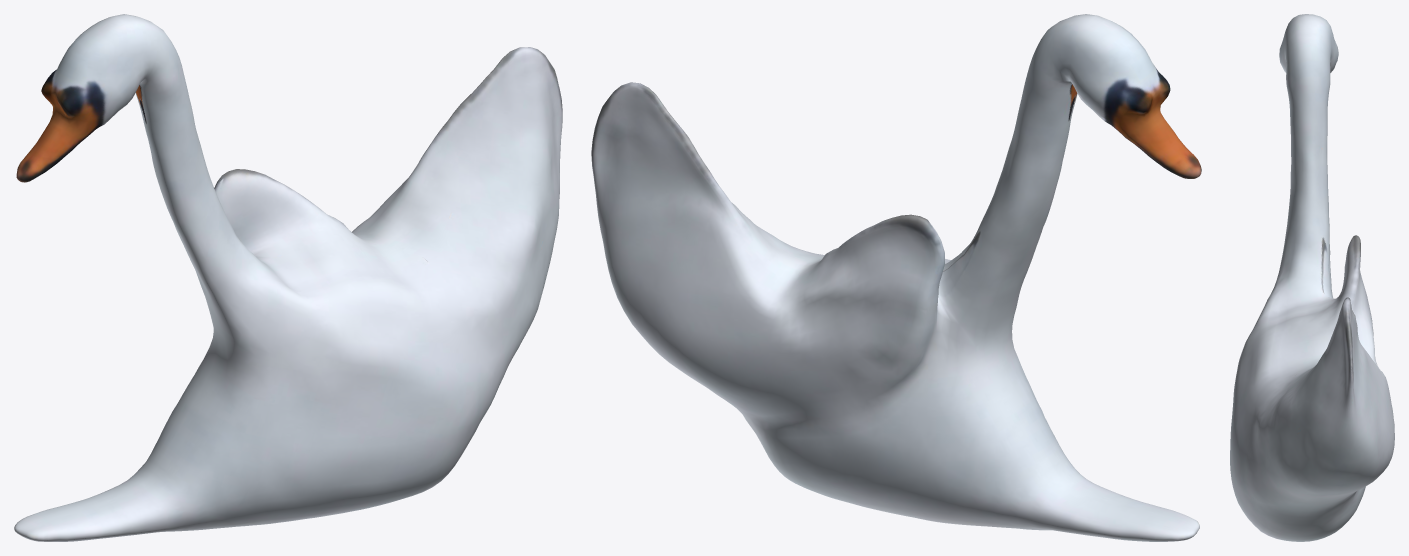
The model's file is swan.glb.
The picture shows the model from 3 angles, left to right: view 1: azimuth 30°, elevation 25°; view 2: azimuth 150°, elevation 25°; view 3: azimuth 270°, elevation 25°; orthographic projection. The views are drawn at different scales.
Parts seen in each view (by area): view 1: mesh; view 2: mesh; view 3: mesh.
Boxes of the visible parts, x1,y1,x2,y2 form: mesh: (14,14,562,541); mesh: (591,14,1201,541); mesh: (1230,14,1394,541).
Bounding box in the file's own units: 0.9968 × 0.8831 × 0.3146.
Materials: 1 (1 with a texture image).
